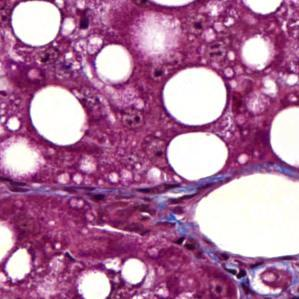steatosis: (27, 83, 93, 149), (164, 65, 229, 125), (164, 133, 233, 181)
